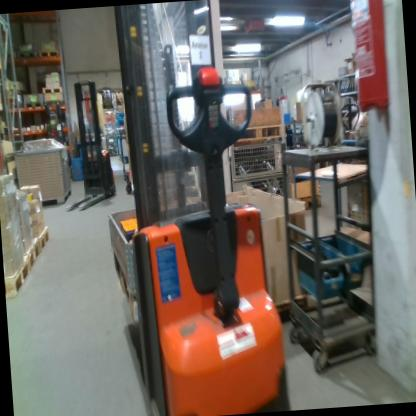pallet: (231, 120, 285, 146), (3, 256, 30, 303), (37, 220, 54, 264), (29, 234, 40, 282), (39, 46, 60, 62), (42, 82, 65, 96), (16, 47, 37, 62), (23, 100, 44, 112)
pallet_truck: (108, 0, 294, 416), (60, 70, 119, 214), (113, 123, 137, 200), (338, 95, 363, 144), (46, 96, 68, 149)
stillage: (228, 133, 294, 209), (11, 142, 76, 212), (339, 151, 374, 232)
